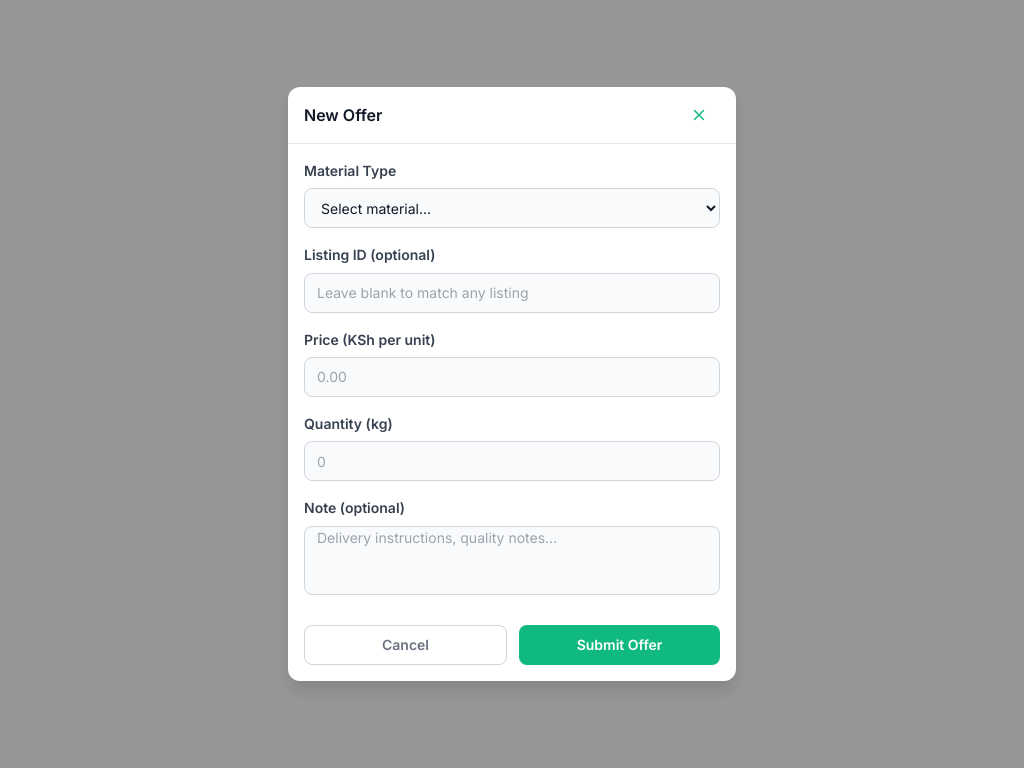
Test: OfferForm › shows validation errors on empty submit
The width and height of the screenshot is (1024, 768).
Click the button "Submit Offer" at (620, 645), box 519,625 -> 720,665
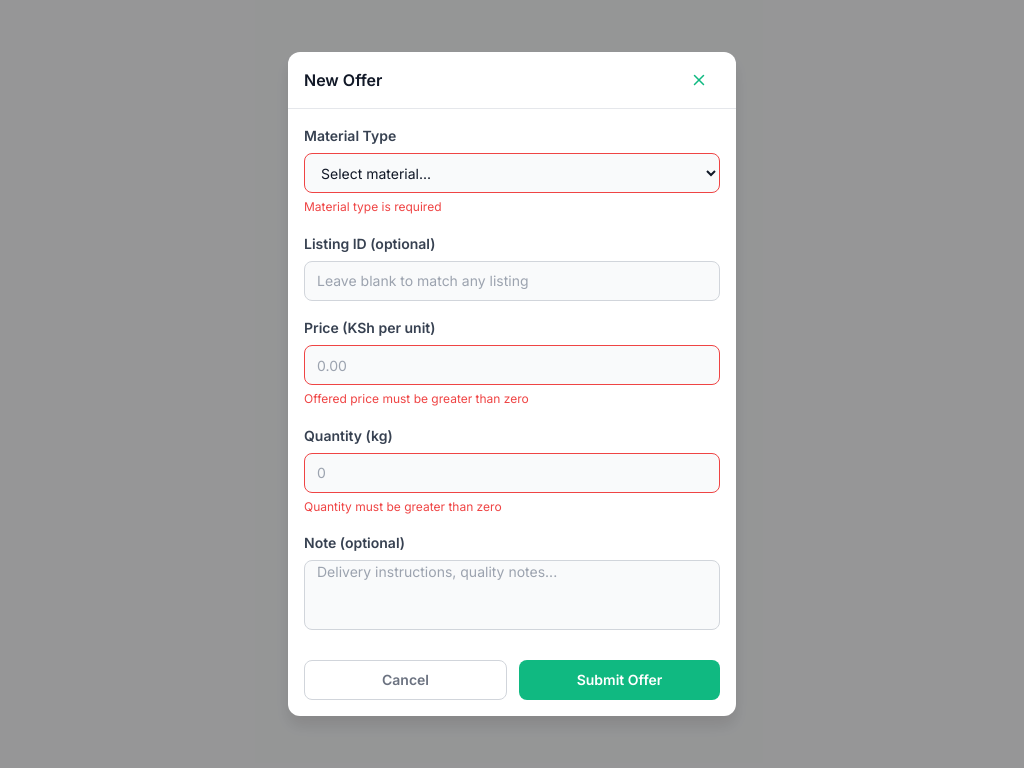
Now the text "Material type is required" is shown, box 304,199 -> 442,214
Now the text "Offered price must be greater than zero" is shown, box 304,391 -> 529,406
Now the text "Quantity must be greater than zero" is shown, box 304,499 -> 502,514
